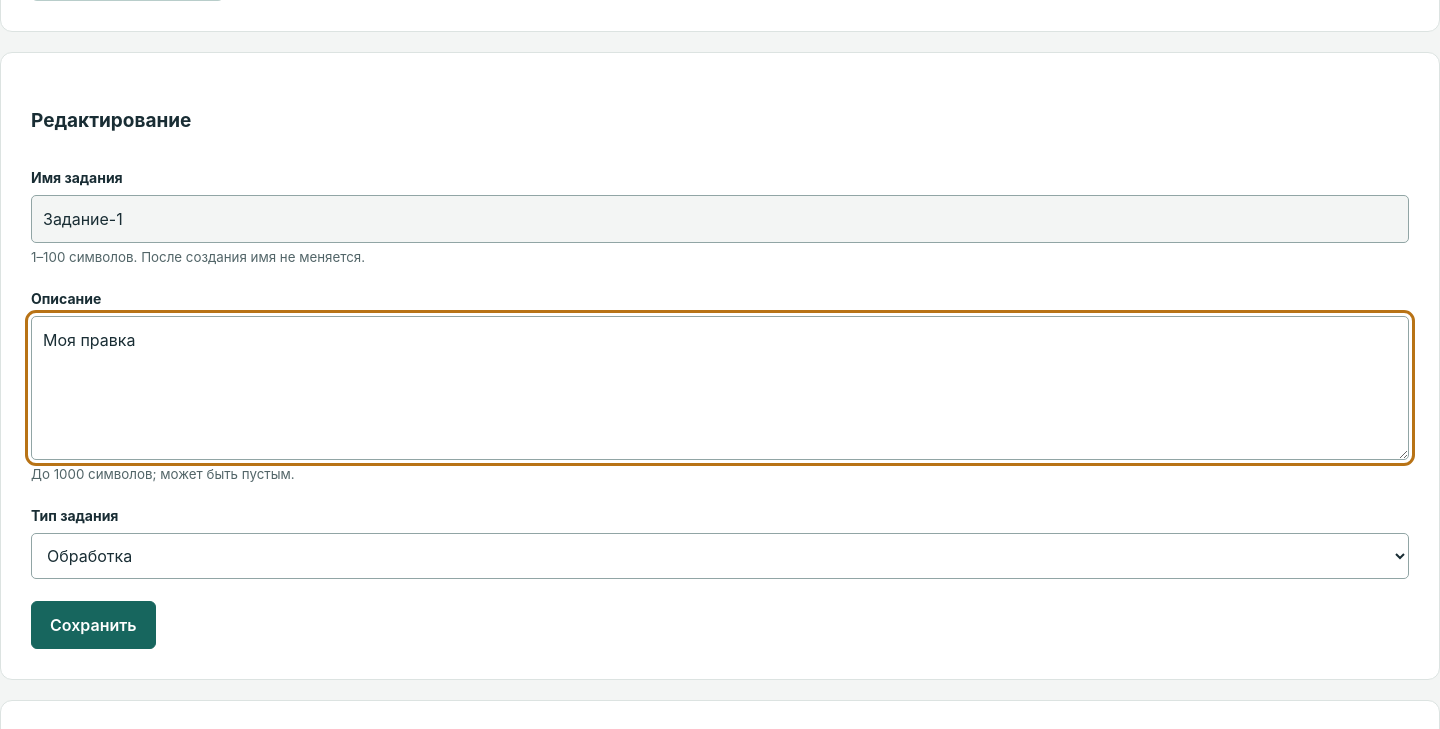
Scenario: Карточка и серверные действия › F-T008: конфликт сохраняет введённый текст и запрещает повтор до обновления
Earlier steps of the test are not shown.
Later steps or results of the test are not shown.
(page scrolled)
Step 1. Click the button "Сохранить" → (93, 625), box [31, 601, 156, 649]
(page scrolled)
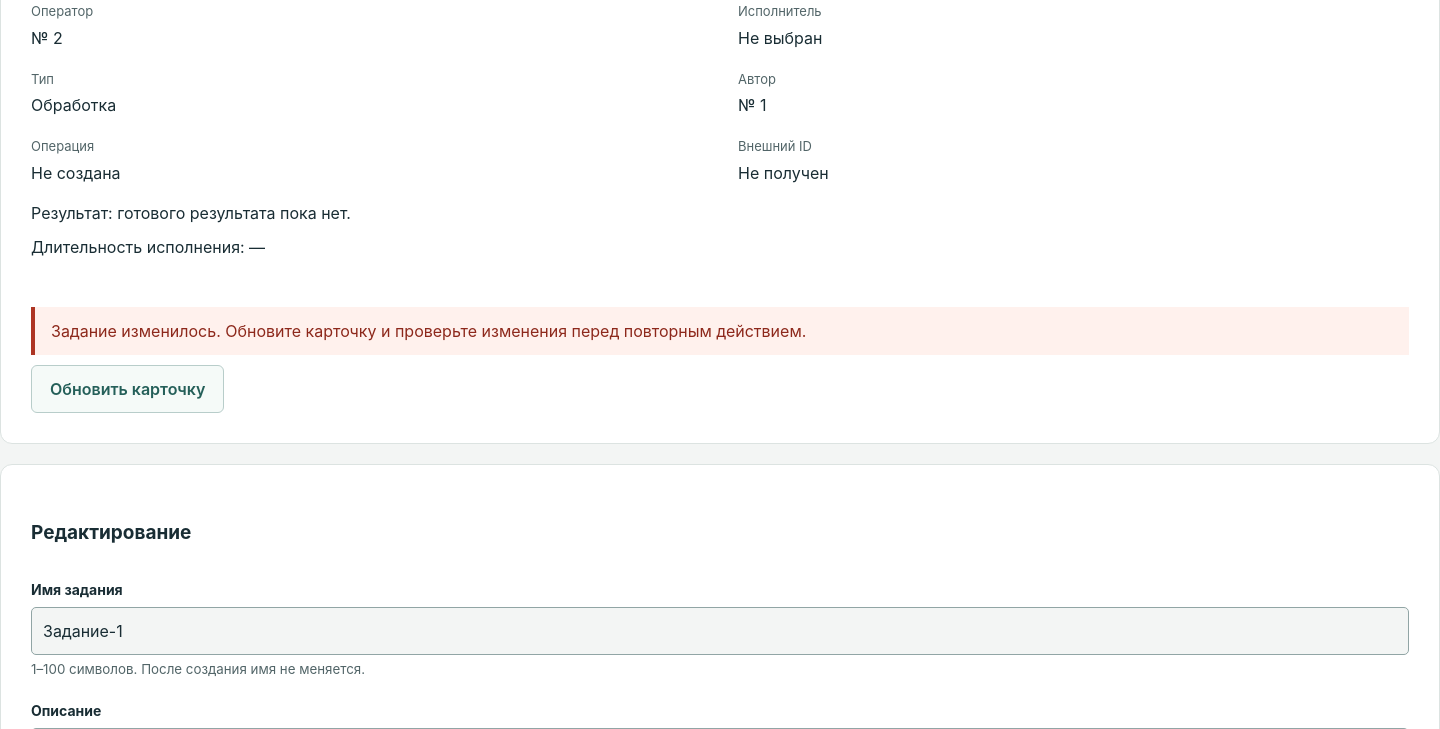
Expected: the message shows "Задание изменилось", [51, 321, 806, 341]
